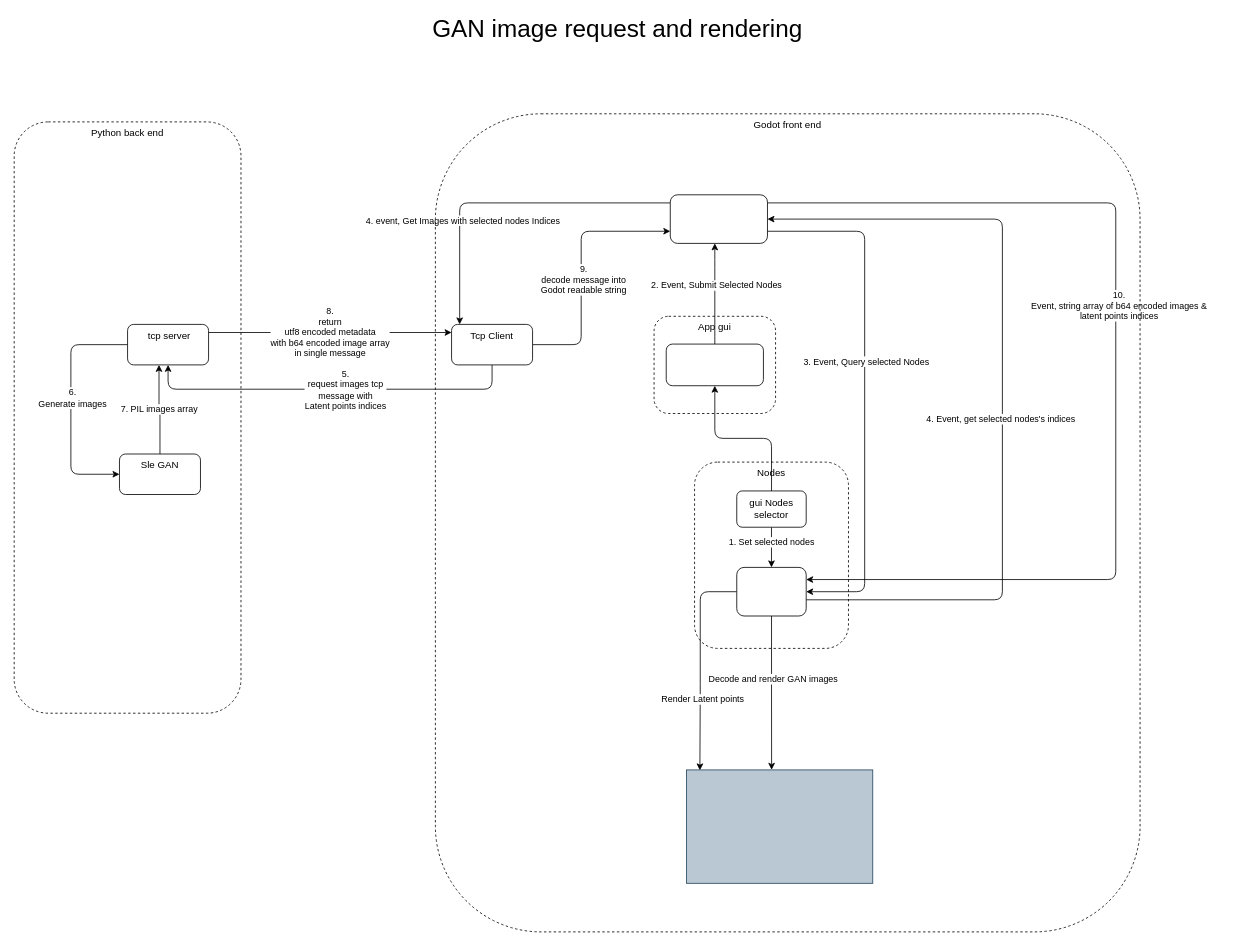
Some shapes in this 1235 by 946 pixel diagram are drawn without their labels. Here are the shapes that lost their labels. From the top down, the centre of each, then its label:
At point (718, 218): "App (events handler)".
At point (714, 364): "Button submit nodes".
At point (771, 591): "Nodes Container".
At point (779, 826): "App viewport".
